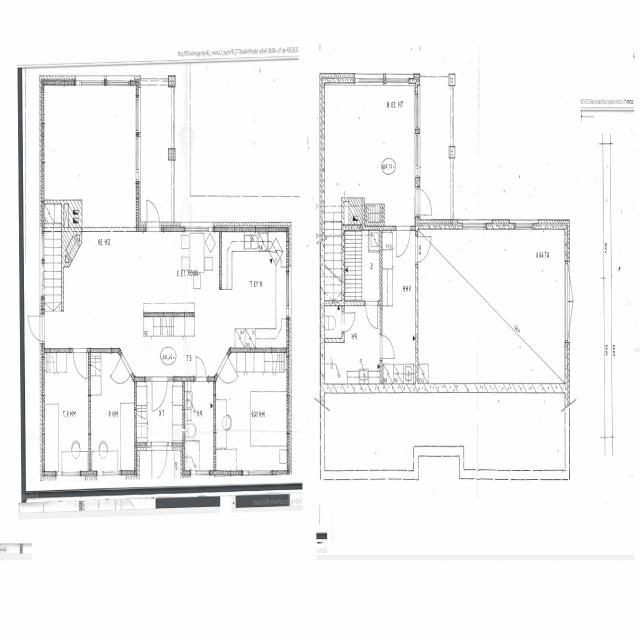door: (565, 263, 590, 302), (565, 302, 590, 340), (216, 354, 238, 394), (368, 281, 389, 321), (112, 354, 132, 392), (152, 442, 167, 479), (414, 189, 434, 215), (415, 236, 432, 262), (147, 198, 160, 232), (27, 316, 44, 341), (73, 348, 87, 378), (424, 269, 437, 300), (397, 226, 410, 256), (196, 358, 206, 381), (342, 313, 354, 332)
